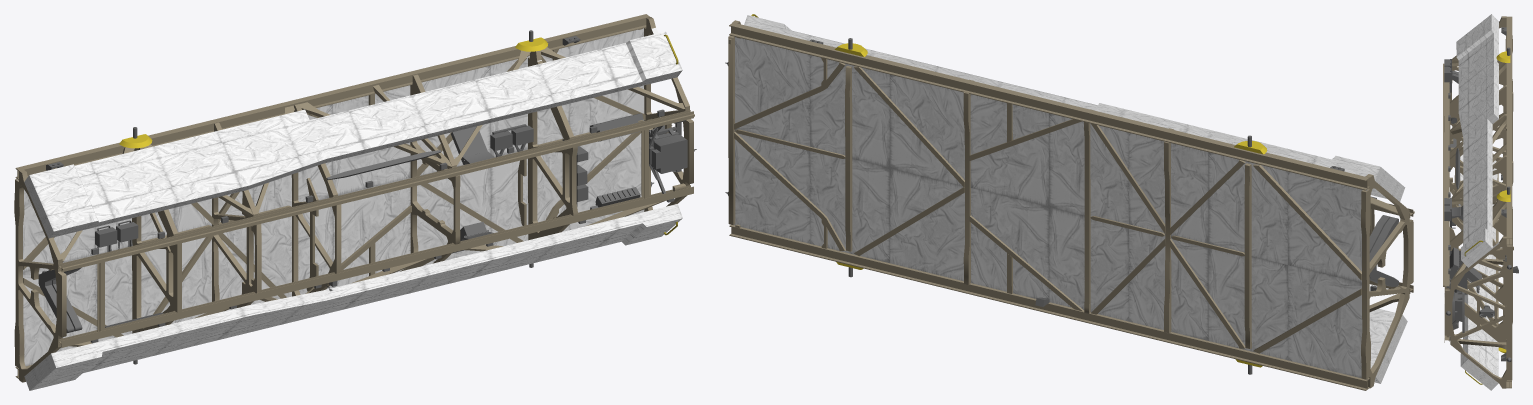
3 views of the same model, side by side, from view 1: azimuth 30°, elevation 25°; view 2: azimuth 150°, elevation 25°; view 3: azimuth 270°, elevation 25° (orthographic). The views are drawn at different scales.
Parts seen in each view (by area): view 1: S1; view 2: S1; view 3: S1.
Part boxes in pixels (left/top/right/bottom): S1: left=14, top=14, right=696, bottom=390; S1: left=725, top=14, right=1414, bottom=390; S1: left=1443, top=14, right=1518, bottom=390.
Bounding box in the file's own units: 13.95 × 4.88 × 1.98.
5 materials, 2 textured.
